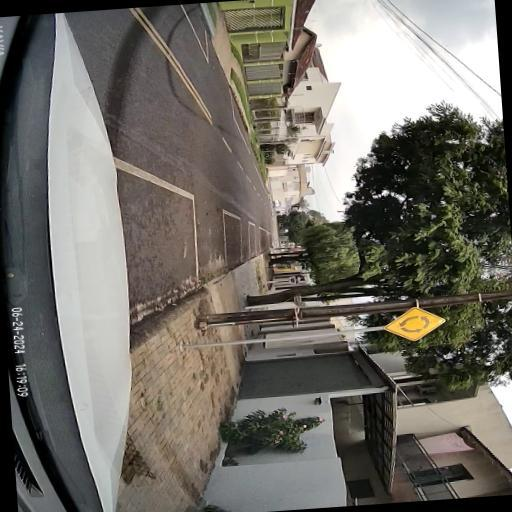A-12: (383, 305, 445, 343)
